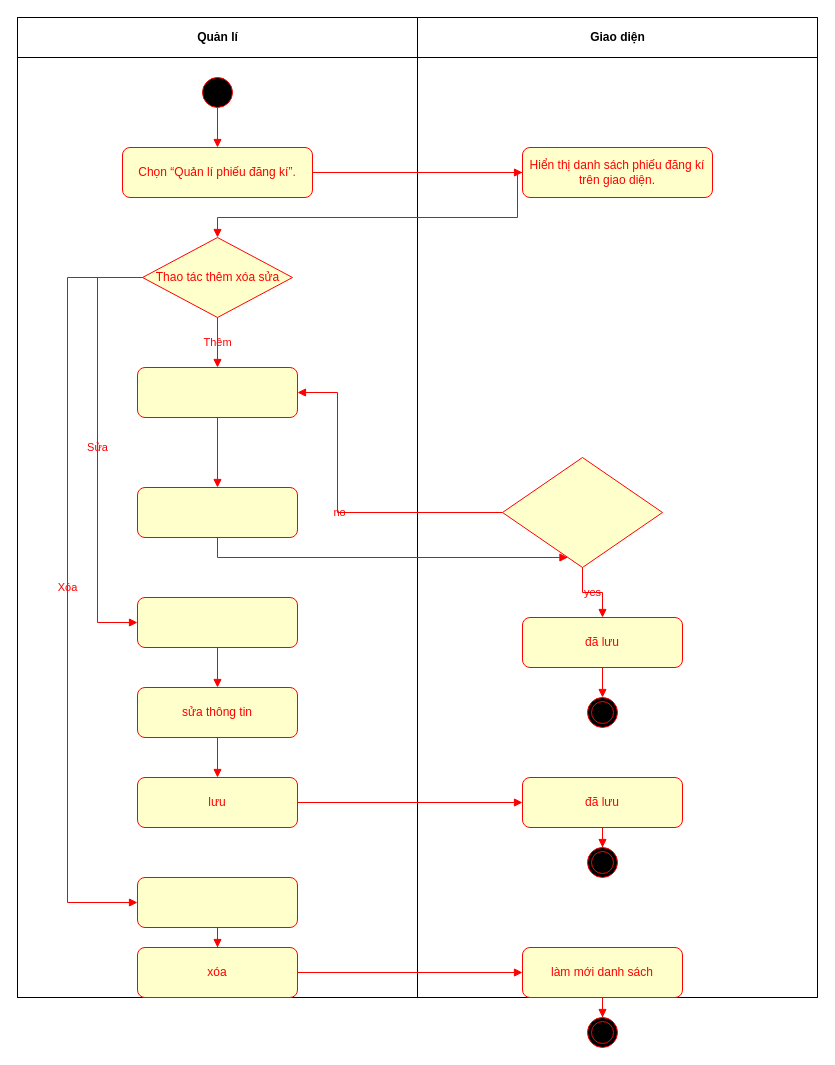
Image size: 835x1065. Some labels were removed from this diagram. The shapes that lost their labels are listed below. From the top down, each one's centre as x and y in pixels, then its label:
At (217,392): "chọn thêm".
At (217,512): "nhấn lưu".
At (582,512): "Kiểm tra trường bắt buộc và thông tin hợp lệ.".
At (217,622): "Activity".
At (217,902): "chọn xóa".
